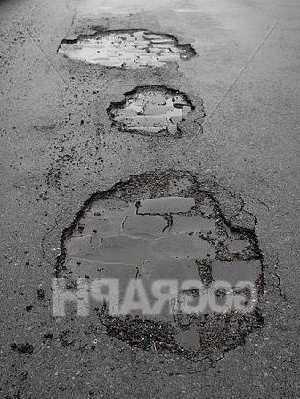pothole: (52, 161, 272, 360), (56, 26, 200, 63), (103, 82, 196, 138)
